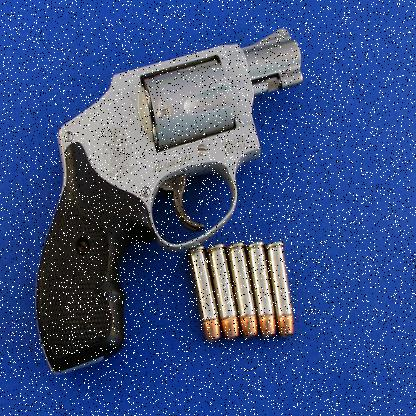pistol: (36, 26, 301, 374)
